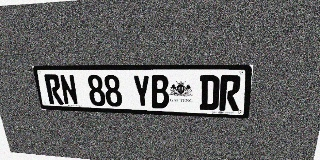8: (103, 75, 123, 107), (87, 75, 106, 106)
B: (150, 75, 169, 109)
D: (199, 75, 220, 110)
N: (59, 74, 79, 105)
R: (219, 75, 241, 111), (44, 74, 64, 105)
Y: (132, 75, 151, 108)
